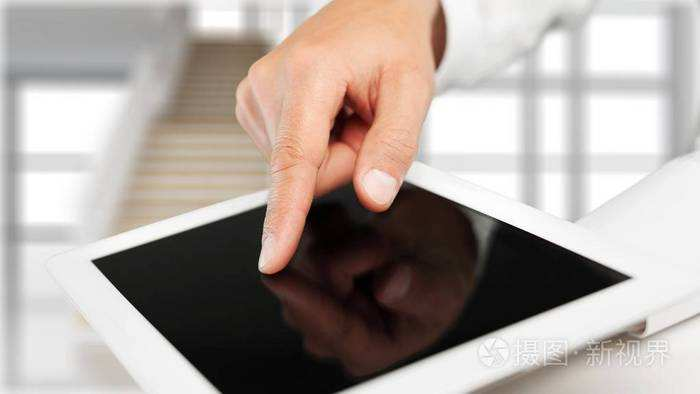pad: (39, 1, 695, 394)
